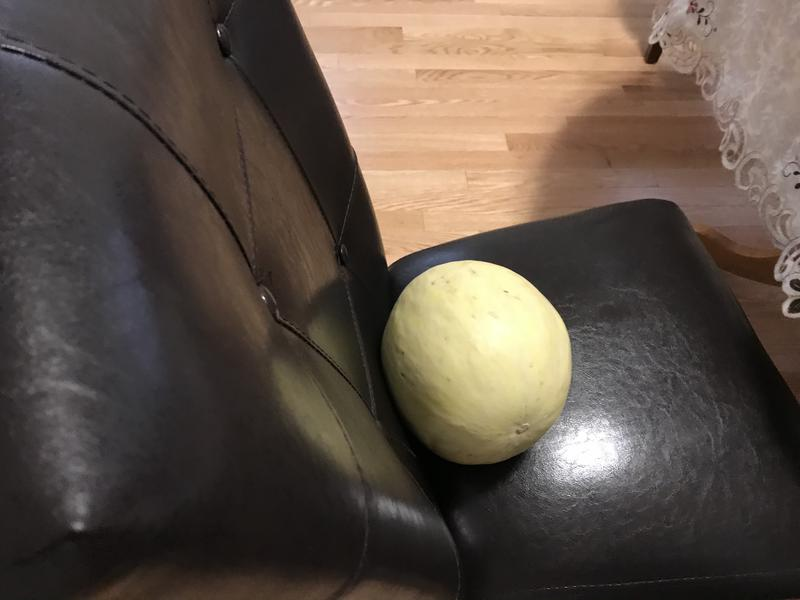honeydew: (375, 252, 583, 480)
